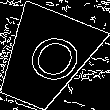O_SW: (10, 27, 80, 91)
